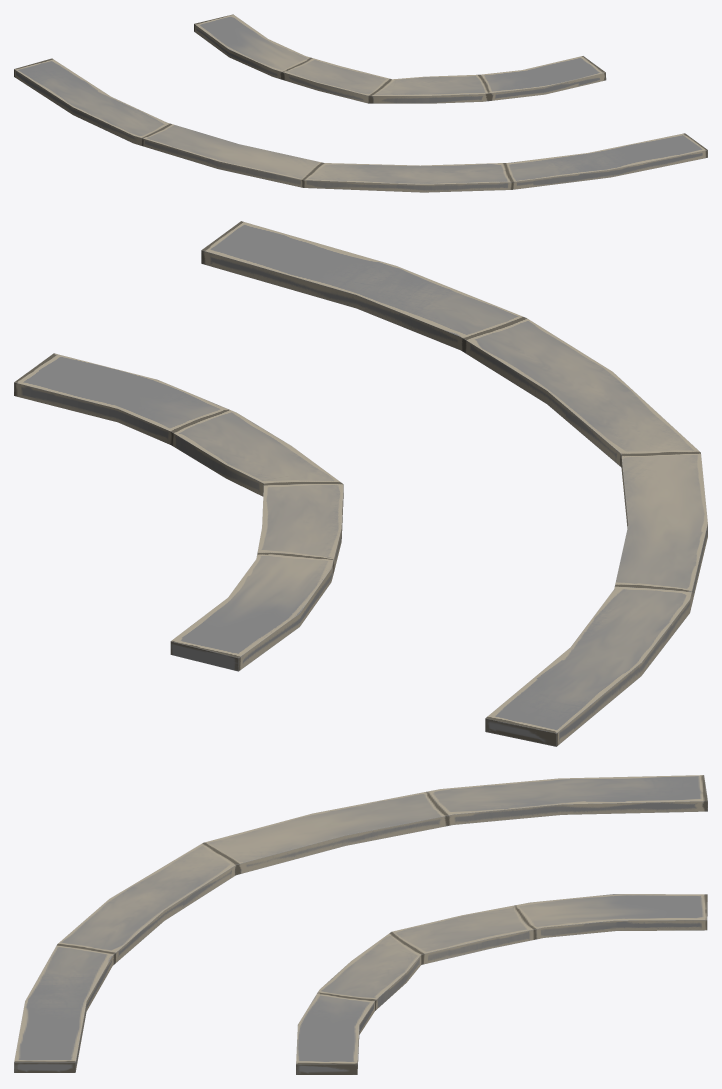
The model's file is SM_ARCH_SideWalkCurved_Tile.fbx.
The picture shows the model from 3 angles, top to bottom: view 1: azimuth 30°, elevation 25°; view 2: azimuth 150°, elevation 25°; view 3: azimuth 270°, elevation 25°; orthographic projection. The views are drawn at different scales.
Visible parts, largest first — view 1: m_sidewalkCurved; view 2: m_sidewalkCurved; view 3: m_sidewalkCurved.
Boxes of the visible parts, x1,y1,x2,y2 form: m_sidewalkCurved: (14, 14, 707, 192); m_sidewalkCurved: (14, 221, 707, 746); m_sidewalkCurved: (14, 775, 707, 1074).
Size of the model in its own units: 2222 by 37.69 by 2252.
1 material, 1 textured.
